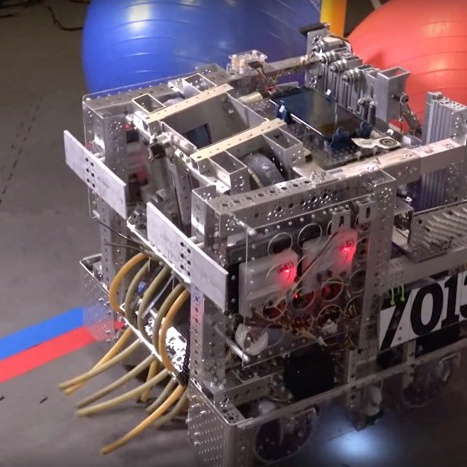robot: (52, 19, 467, 467)
yogaball: (73, 0, 320, 85), (343, 2, 467, 124)
